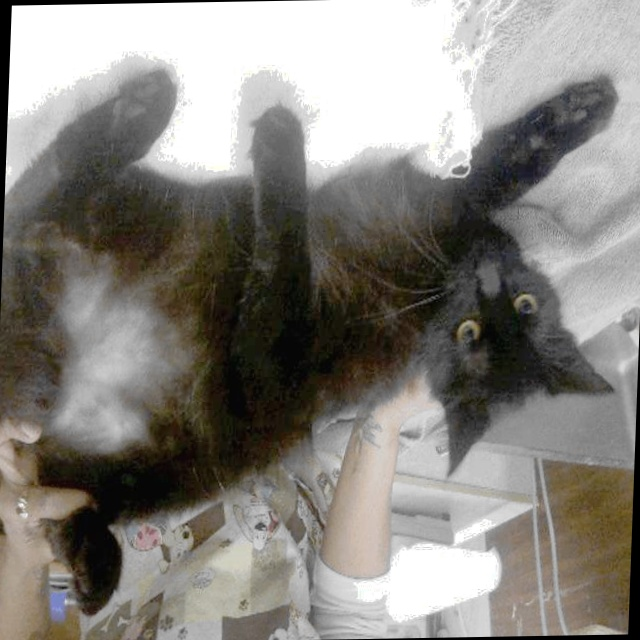hairloss: (54, 275, 157, 447)
